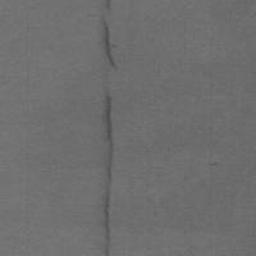Inclusion: (102, 93, 115, 256), (99, 0, 119, 70)
